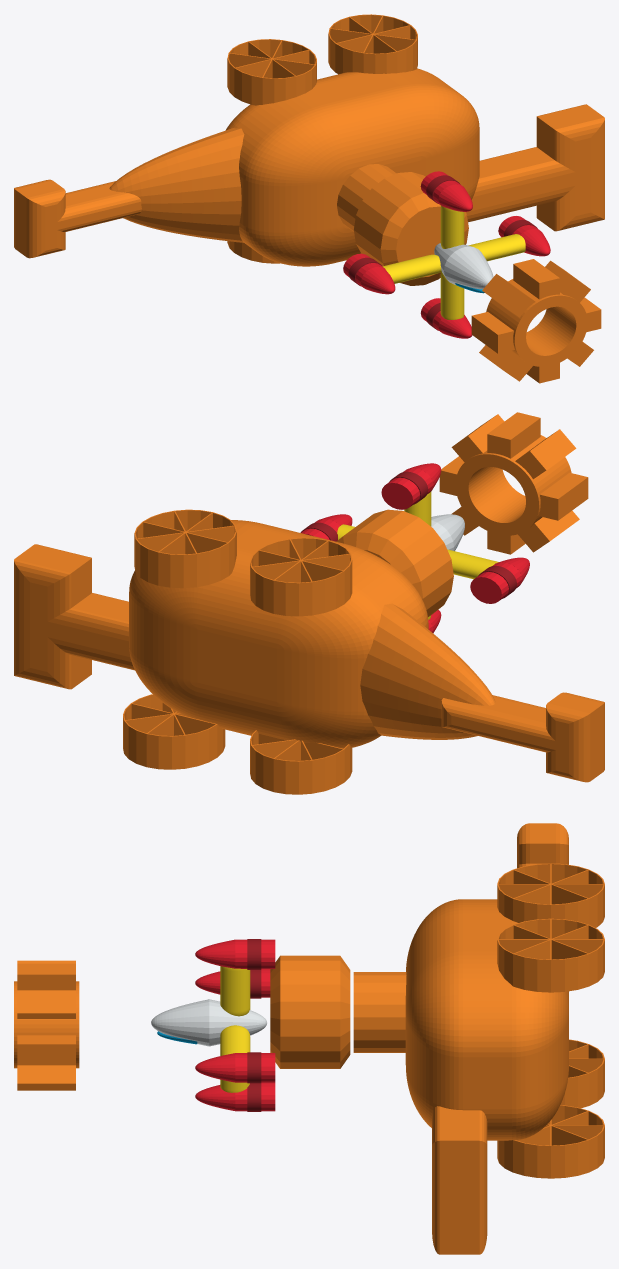
Rendered from tinker.obj.
The picture shows the model from 3 angles, top to bottom: view 1: azimuth 30°, elevation 25°; view 2: azimuth 150°, elevation 25°; view 3: azimuth 270°, elevation 25°; orthographic projection. The views are drawn at different scales.
Parts seen in each view (by area): view 1: obj_2, obj_10, obj_0, obj_1, obj_3, obj_8, obj_9, obj_5, obj_6; view 2: obj_2, obj_0, obj_10, obj_3, obj_9, obj_5, obj_6, obj_1, obj_8, obj_7, obj_4; view 3: obj_2, obj_8, obj_1, obj_0, obj_10, obj_6, obj_5, obj_7, obj_4, obj_9.
Part boxes in pixels (left/top/right/bottom): obj_2: left=225, top=68, right=479, bottom=266; obj_10: left=465, top=104, right=604, bottom=231; obj_0: left=471, top=259, right=601, bottom=383; obj_1: left=343, top=171, right=550, bottom=338; obj_3: left=109, top=128, right=244, bottom=242; obj_8: left=337, top=164, right=468, bottom=285; obj_9: left=14, top=179, right=141, bottom=258; obj_5: left=227, top=39, right=316, bottom=105; obj_6: left=328, top=14, right=417, bottom=74; obj_2: left=129, top=520, right=428, bottom=748; obj_0: left=439, top=412, right=588, bottom=554; obj_10: left=14, top=544, right=134, bottom=689; obj_3: left=360, top=603, right=495, bottom=739; obj_9: left=441, top=692, right=604, bottom=782; obj_5: left=250, top=538, right=352, bottom=616; obj_6: left=134, top=509, right=236, bottom=588; obj_1: left=300, top=463, right=529, bottom=633; obj_8: left=336, top=509, right=453, bottom=617; obj_7: left=123, top=694, right=225, bottom=769; obj_4: left=250, top=730, right=352, bottom=794; obj_2: left=405, top=899, right=568, bottom=1140; obj_8: left=270, top=955, right=406, bottom=1068; obj_1: left=151, top=939, right=275, bottom=1111; obj_0: left=14, top=960, right=79, bottom=1090; obj_10: left=432, top=1106, right=487, bottom=1254; obj_6: left=497, top=918, right=604, bottom=992; obj_5: left=497, top=863, right=604, bottom=927; obj_7: left=497, top=1105, right=604, bottom=1178; obj_4: left=560, top=1039, right=604, bottom=1108; obj_9: left=517, top=823, right=568, bottom=868.
Bounding box in the file's own units: 213 × 73 × 181.
